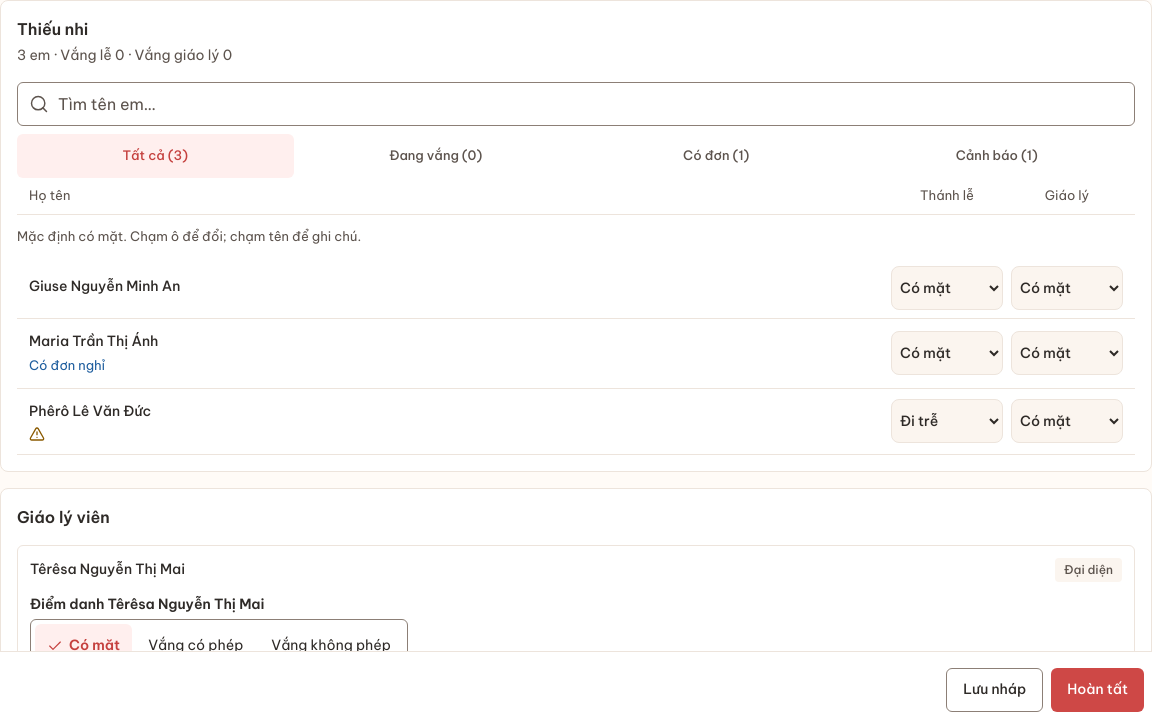
Test: Mobile roster: direct controls and detail sheet › closing and reopening details keeps both statuses and the internal note
The width and height of the screenshot is (1152, 720).
Select "Vắng KP" in the dropdown named "Thánh lễ của Giuse Nguyễn Minh An" at coordinates (947, 288), box [891,266,1003,310]
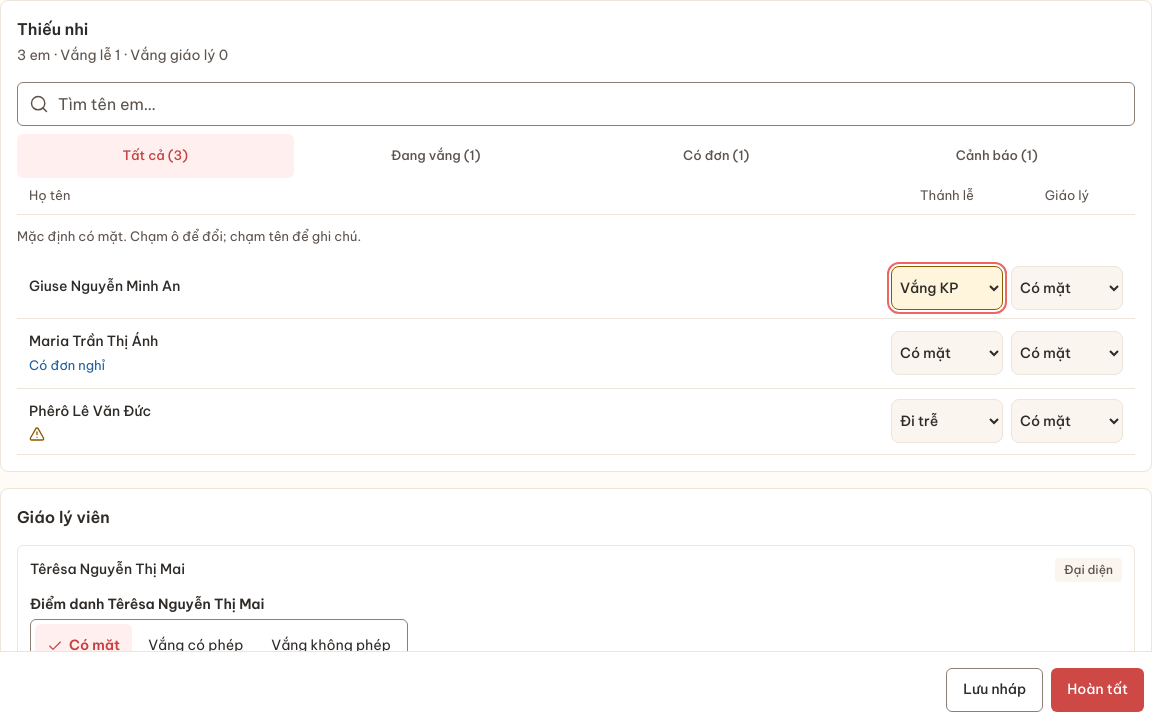
Click the button "Giuse Nguyễn Minh An" at coordinates (105, 286), box [29,266,883,310]
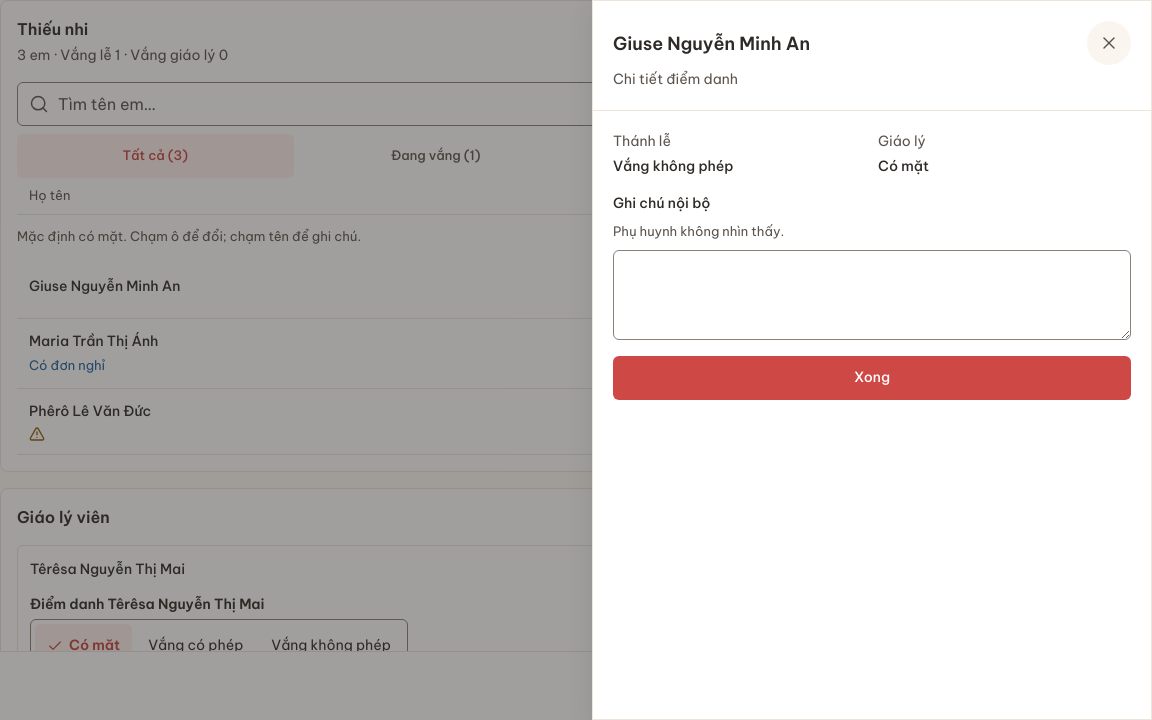
Type "Đã gọi gia đình" into the text box named "Ghi chú nội bộ của Giuse" at coordinates (872, 294), box [613,250,1131,340]
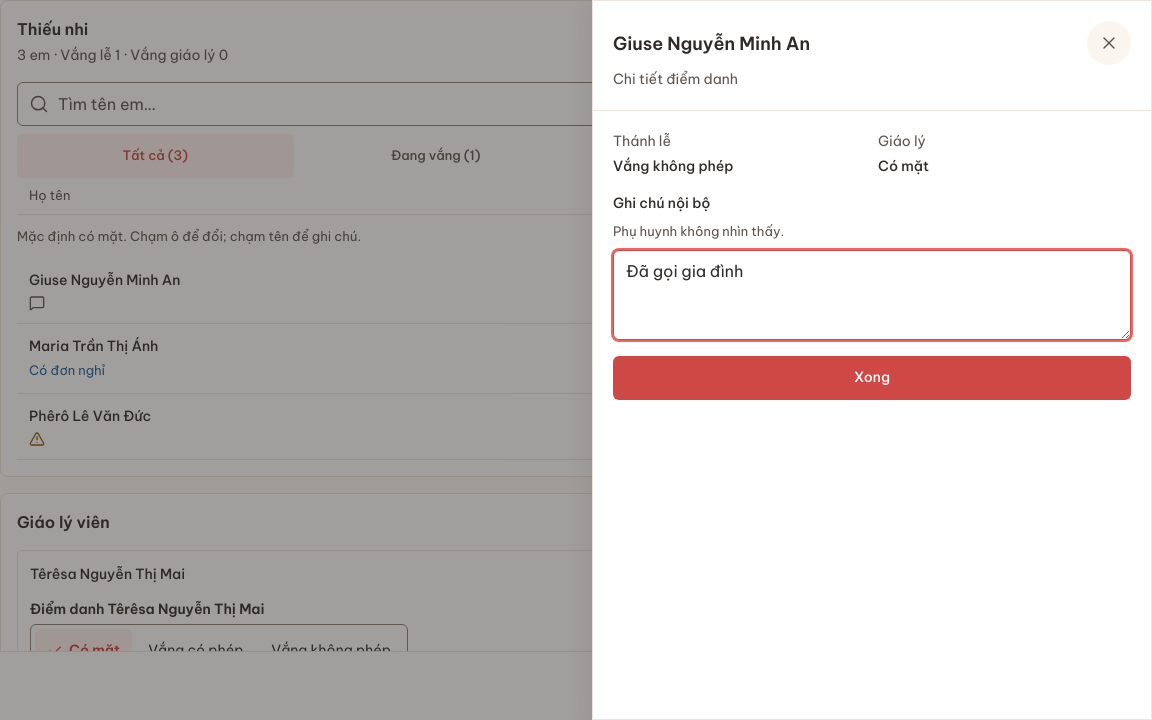
Click the button "Xong" at coordinates (872, 378), box [613,356,1131,400]
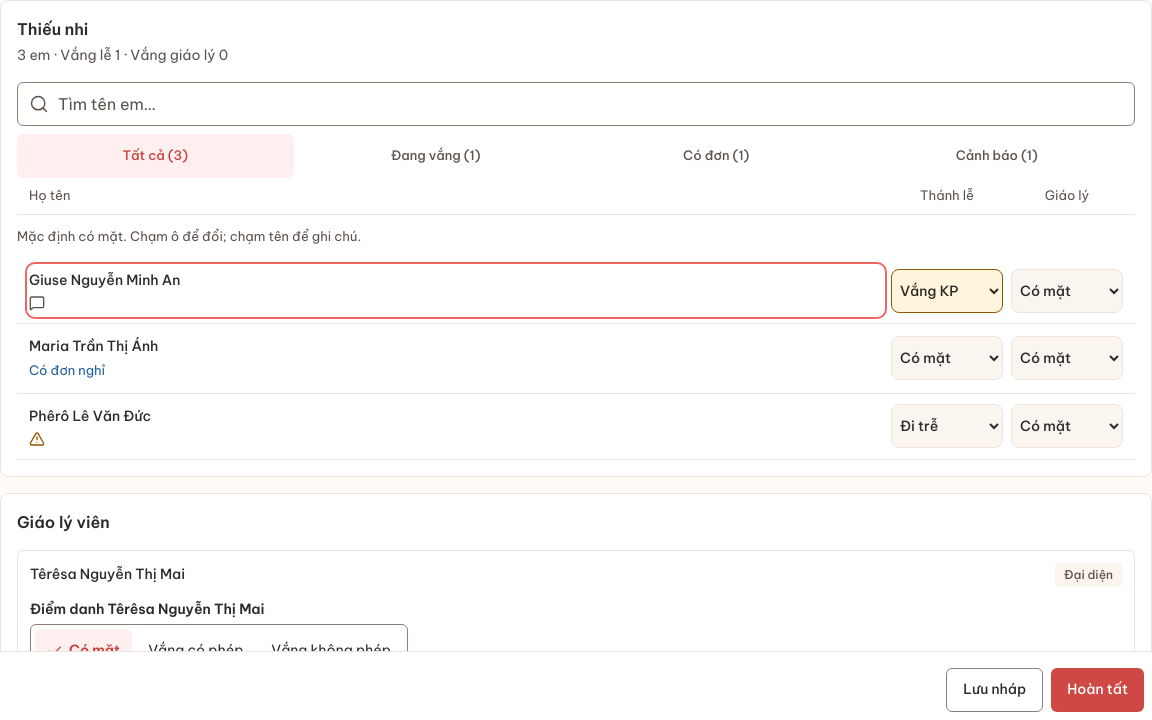
Result: the dialog is gone
Click the button "Giuse Nguyễn Minh An" at coordinates (105, 280), box [29,266,883,315]
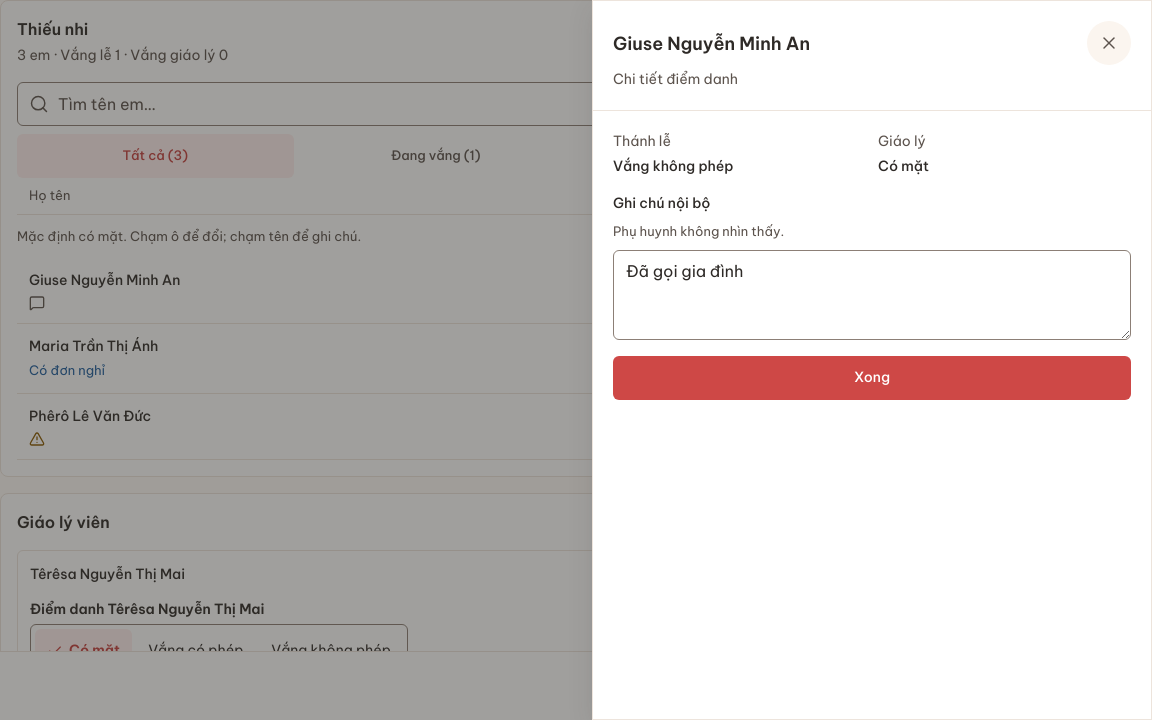
Result: the number of dialogs is 1 at [592,0,1151,719]
